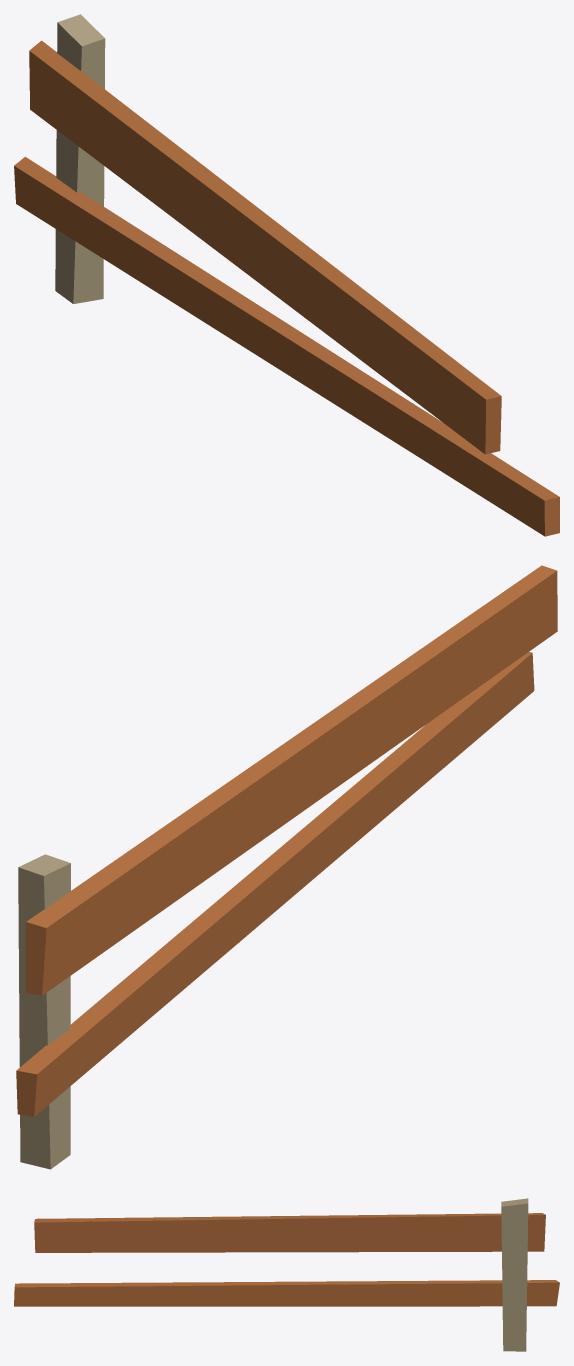
The model's file is woodfence01.fbx.
3 views of the same model, one above another, from view 1: azimuth 30°, elevation 25°; view 2: azimuth 150°, elevation 25°; view 3: azimuth 270°, elevation 25° (orthographic). The views are drawn at different scales.
Parts seen in each view (by area): view 1: woodfence01; view 2: woodfence01; view 3: woodfence01.
Part boxes in pixels (x1,y1,x2,y2): woodfence01: (14, 14, 559, 536); woodfence01: (16, 565, 557, 1169); woodfence01: (14, 1198, 559, 1351).
Bounding box in the file's own units: 22.22 × 102 × 341.
